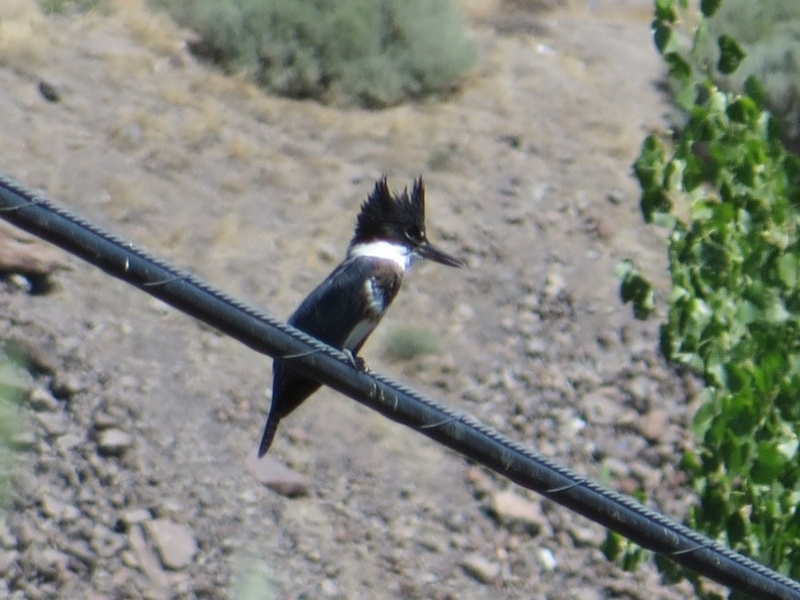kingfisher: (255, 172, 466, 461)
